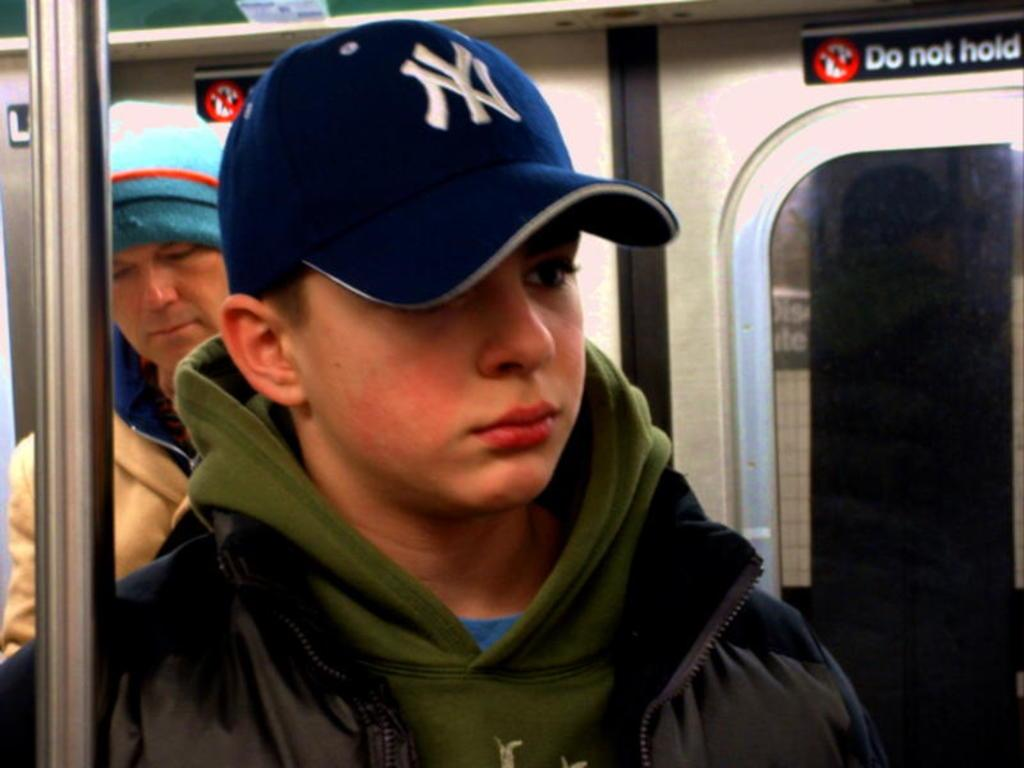Hat: (219, 20, 679, 311)
